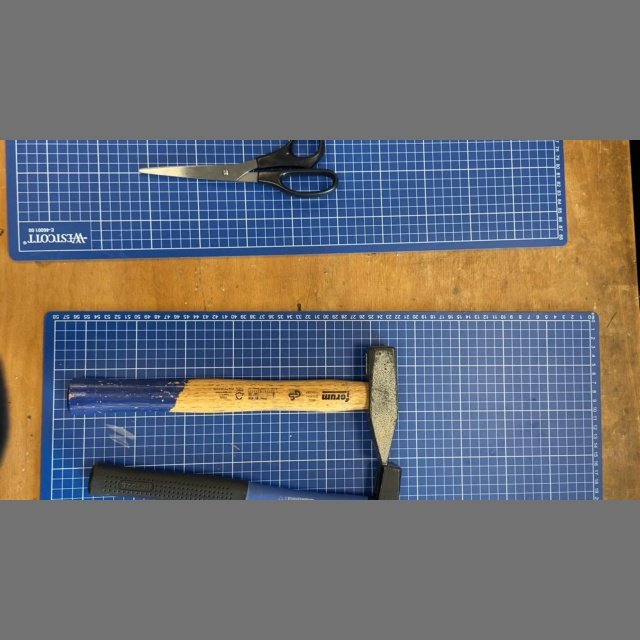scissor: (133, 140, 341, 203)
